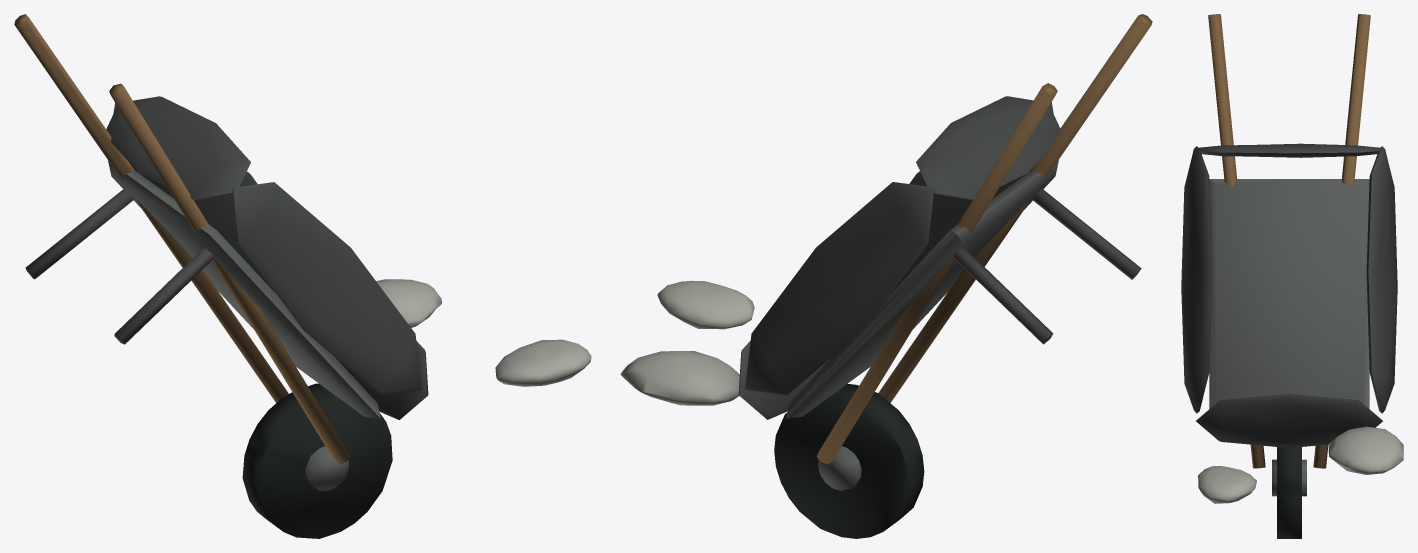
File: wheelbarrow_b_lod1.glb
3 views of the same model, side by side, from view 1: azimuth 30°, elevation 25°; view 2: azimuth 150°, elevation 25°; view 3: azimuth 270°, elevation 25° (orthographic). The views are drawn at different scales.
Parts seen in each view (by area): view 1: Surface.001; view 2: Surface.001; view 3: Surface.001.
Part boxes in pixels (left/top/right/bottom): Surface.001: left=14, top=14, right=591, bottom=538; Surface.001: left=620, top=14, right=1152, bottom=538; Surface.001: left=1181, top=14, right=1403, bottom=538.
Size of the model in its own units: 1.76 by 1.88 by 0.8886.
